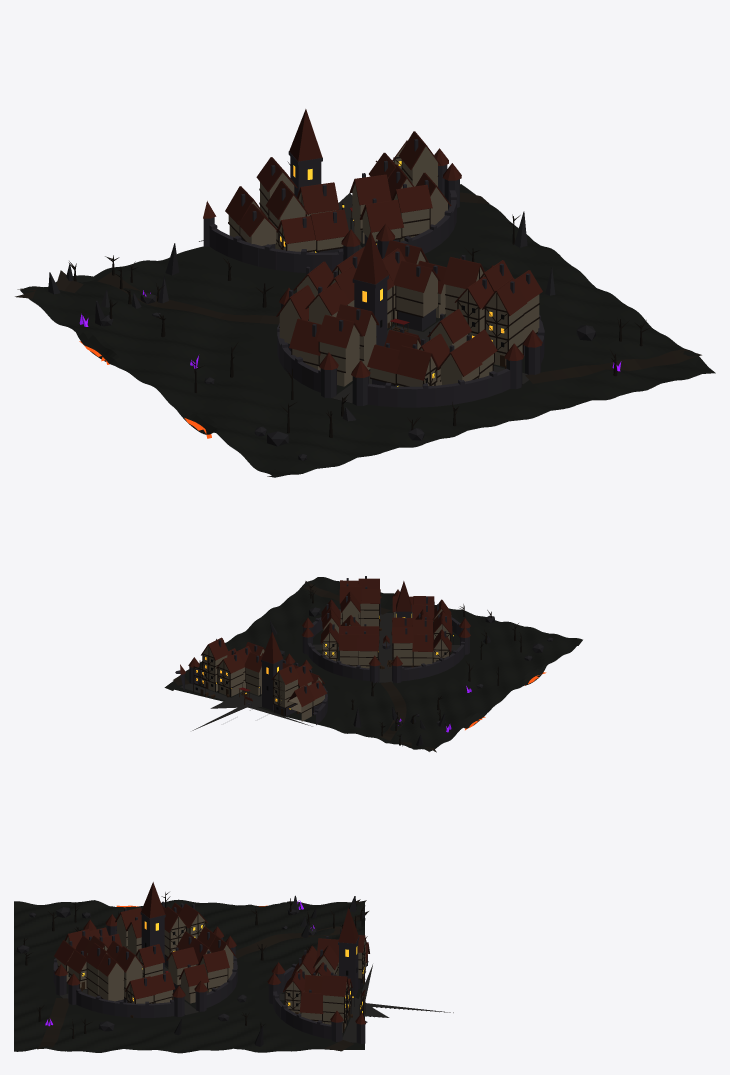
Rendered from chunk-4-4.glb.
The picture shows the model from 3 angles, top to bottom: view 1: azimuth 30°, elevation 25°; view 2: azimuth 150°, elevation 25°; view 3: azimuth 270°, elevation 25°; orthographic projection. The views are drawn at different scales.
Parts seen in each view (by area): view 1: Ash_Ground, Roof_Tile, Castle_Stone, Plaster, Dirt_Road, Dark_Rock, Timber, Dead_Wood, Cobblestone; view 2: Ash_Ground, Roof_Tile, Plaster, Castle_Stone, Cobblestone, Timber, Dirt_Road, Dark_Rock, Dead_Wood; view 3: Ash_Ground, Roof_Tile, Castle_Stone, Plaster, Dirt_Road, Timber, Dark_Rock, Cobblestone, Dead_Wood.
Part boxes in pixels (x1,y1,x2,y2): Ash_Ground: (20, 184, 715, 477); Roof_Tile: (203, 109, 542, 380); Castle_Stone: (203, 139, 544, 407); Plaster: (228, 143, 539, 386); Dirt_Road: (15, 192, 701, 383); Dark_Rock: (48, 211, 595, 460); Timber: (228, 142, 539, 386); Dead_Wood: (68, 214, 650, 437); Cobblestone: (199, 161, 528, 403); Ash_Ground: (164, 577, 582, 751); Roof_Tile: (180, 578, 470, 706); Plaster: (203, 601, 449, 721); Castle_Stone: (175, 576, 469, 724); Cobblestone: (180, 613, 459, 730); Timber: (193, 604, 450, 716); Dirt_Road: (173, 581, 436, 752); Dark_Rock: (216, 607, 553, 746); Dead_Wood: (223, 583, 521, 745); Ash_Ground: (14, 899, 364, 1053); Roof_Tile: (54, 882, 369, 1024); Castle_Stone: (53, 901, 367, 1043); Plaster: (56, 913, 368, 1032); Dirt_Road: (37, 899, 368, 1051); Timber: (57, 914, 368, 1032); Dark_Rock: (16, 895, 365, 1046); Cobblestone: (60, 964, 453, 1042); Dead_Wood: (23, 892, 365, 1038).
Bounding box in the file's own units: 121 × 24.4 × 160.
